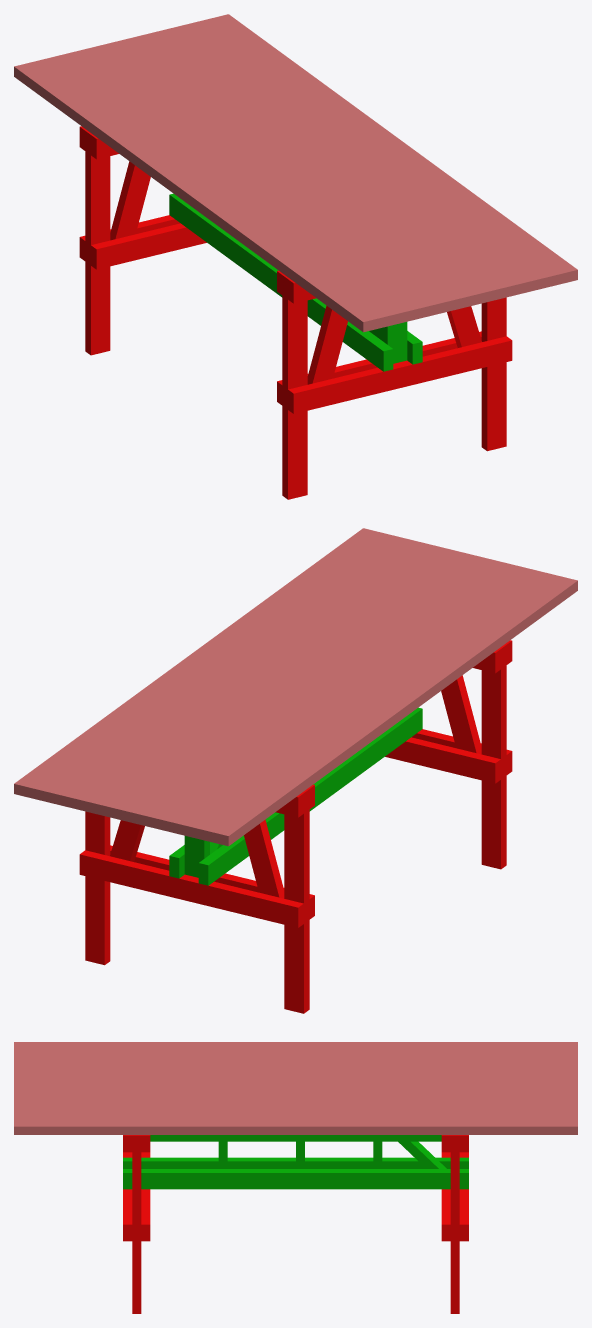
File: result.glb
3 renders of one model, top to bottom at view 1: azimuth 30°, elevation 25°; view 2: azimuth 150°, elevation 25°; view 3: azimuth 270°, elevation 25°, orthographic. The views are drawn at different scales.
Parts seen in each view (by area): view 1: 0f5ffe74-db9e-449f-93dc-157e0c3a5591__Box, 47c7397b-075a-4dc9-95ca-4535a9ce69ec__undefined, c10910ea-9574-46b0-931c-df6afef5cb8e__undefined, 6161cd1b-9627-4335-9520-26f8e2e9f597__undefined, fddba4b1-4bff-4f51-bde9-cd8a2744dc91__undefined, f6d591c1-8adc-49fc-8760-1269d7ee9534__undefined, b5608cb1-3165-49de-8710-2c6dfc056f2c__undefined, a98e329b-7489-430d-9bdd-557ac70a2919__undefined, d38e2a6a-55b4-4ae7-9080-590835e2f90c__undefined, ec2d7de2-43c8-46c4-a6f1-2408173baf1d__undefined, bb09f87b-b0fe-4f67-81fe-dd6296cc1f5d__undefined, 13087fc6-1a67-4654-a43c-d5aac58bcdc4__sideH (+11 smaller); view 2: 0f5ffe74-db9e-449f-93dc-157e0c3a5591__Box, 47c7397b-075a-4dc9-95ca-4535a9ce69ec__undefined, c10910ea-9574-46b0-931c-df6afef5cb8e__undefined, 6161cd1b-9627-4335-9520-26f8e2e9f597__undefined, fddba4b1-4bff-4f51-bde9-cd8a2744dc91__undefined, f6d591c1-8adc-49fc-8760-1269d7ee9534__undefined, b5608cb1-3165-49de-8710-2c6dfc056f2c__undefined, a98e329b-7489-430d-9bdd-557ac70a2919__undefined, d38e2a6a-55b4-4ae7-9080-590835e2f90c__undefined, ec2d7de2-43c8-46c4-a6f1-2408173baf1d__undefined, bb09f87b-b0fe-4f67-81fe-dd6296cc1f5d__undefined, 6173a240-681f-4a54-b13a-35e39a16cab1__undefined (+11 smaller); view 3: bb09f87b-b0fe-4f67-81fe-dd6296cc1f5d__undefined, bfdf0bd6-81de-4eb4-9203-5bdb8e07ddd0__strutH, b5608cb1-3165-49de-8710-2c6dfc056f2c__undefined, 6161cd1b-9627-4335-9520-26f8e2e9f597__undefined, ec2d7de2-43c8-46c4-a6f1-2408173baf1d__undefined, 0f5ffe74-db9e-449f-93dc-157e0c3a5591__Box, 47c7397b-075a-4dc9-95ca-4535a9ce69ec__undefined, c10910ea-9574-46b0-931c-df6afef5cb8e__undefined, d38e2a6a-55b4-4ae7-9080-590835e2f90c__undefined, a98e329b-7489-430d-9bdd-557ac70a2919__undefined, fddba4b1-4bff-4f51-bde9-cd8a2744dc91__undefined, f6d591c1-8adc-49fc-8760-1269d7ee9534__undefined (+9 smaller).
Boxes of the visible parts, x1,y1,x2,y2 form: 0f5ffe74-db9e-449f-93dc-157e0c3a5591__Box: [14, 62, 382, 332]; 47c7397b-075a-4dc9-95ca-4535a9ce69ec__undefined: [34, 57, 402, 327]; c10910ea-9574-46b0-931c-df6afef5cb8e__undefined: [73, 47, 441, 317]; 6161cd1b-9627-4335-9520-26f8e2e9f597__undefined: [112, 38, 480, 308]; fddba4b1-4bff-4f51-bde9-cd8a2744dc91__undefined: [151, 28, 519, 298]; f6d591c1-8adc-49fc-8760-1269d7ee9534__undefined: [190, 19, 558, 289]; b5608cb1-3165-49de-8710-2c6dfc056f2c__undefined: [53, 52, 421, 322]; a98e329b-7489-430d-9bdd-557ac70a2919__undefined: [131, 33, 499, 303]; d38e2a6a-55b4-4ae7-9080-590835e2f90c__undefined: [92, 42, 460, 313]; ec2d7de2-43c8-46c4-a6f1-2408173baf1d__undefined: [170, 23, 538, 294]; bb09f87b-b0fe-4f67-81fe-dd6296cc1f5d__undefined: [209, 14, 577, 284]; 13087fc6-1a67-4654-a43c-d5aac58bcdc4__sideH: [288, 336, 512, 413]; 0f5ffe74-db9e-449f-93dc-157e0c3a5591__Box: [209, 576, 577, 846]; 47c7397b-075a-4dc9-95ca-4535a9ce69ec__undefined: [189, 571, 557, 841]; c10910ea-9574-46b0-931c-df6afef5cb8e__undefined: [150, 561, 518, 831]; 6161cd1b-9627-4335-9520-26f8e2e9f597__undefined: [111, 552, 479, 822]; fddba4b1-4bff-4f51-bde9-cd8a2744dc91__undefined: [72, 542, 440, 812]; f6d591c1-8adc-49fc-8760-1269d7ee9534__undefined: [33, 533, 401, 803]; b5608cb1-3165-49de-8710-2c6dfc056f2c__undefined: [170, 566, 538, 836]; a98e329b-7489-430d-9bdd-557ac70a2919__undefined: [92, 547, 460, 817]; d38e2a6a-55b4-4ae7-9080-590835e2f90c__undefined: [131, 556, 499, 827]; ec2d7de2-43c8-46c4-a6f1-2408173baf1d__undefined: [53, 537, 421, 808]; bb09f87b-b0fe-4f67-81fe-dd6296cc1f5d__undefined: [14, 528, 382, 798]; 6173a240-681f-4a54-b13a-35e39a16cab1__undefined: [79, 850, 303, 927]; bb09f87b-b0fe-4f67-81fe-dd6296cc1f5d__undefined: [14, 1119, 577, 1134]; bfdf0bd6-81de-4eb4-9203-5bdb8e07ddd0__strutH: [123, 1169, 468, 1189]; b5608cb1-3165-49de-8710-2c6dfc056f2c__undefined: [14, 1057, 577, 1065]; 6161cd1b-9627-4335-9520-26f8e2e9f597__undefined: [14, 1080, 577, 1088]; ec2d7de2-43c8-46c4-a6f1-2408173baf1d__undefined: [14, 1103, 577, 1111]; 0f5ffe74-db9e-449f-93dc-157e0c3a5591__Box: [14, 1042, 577, 1049]; 47c7397b-075a-4dc9-95ca-4535a9ce69ec__undefined: [14, 1050, 577, 1057]; c10910ea-9574-46b0-931c-df6afef5cb8e__undefined: [14, 1065, 577, 1072]; d38e2a6a-55b4-4ae7-9080-590835e2f90c__undefined: [14, 1073, 577, 1080]; a98e329b-7489-430d-9bdd-557ac70a2919__undefined: [14, 1088, 577, 1095]; fddba4b1-4bff-4f51-bde9-cd8a2744dc91__undefined: [14, 1096, 577, 1103]; f6d591c1-8adc-49fc-8760-1269d7ee9534__undefined: [14, 1111, 577, 1118].
Bounding box in the file's own units: 560 × 565 × 1550.
